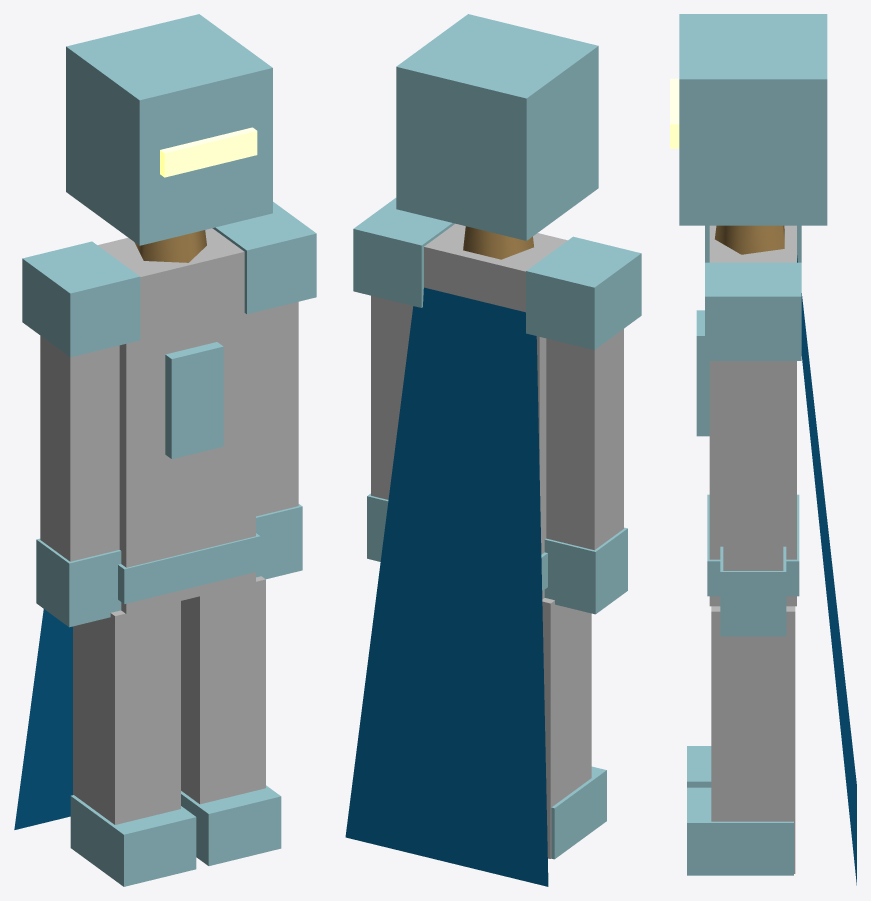
The model's file is hero_mage.glb.
3 renders of one model, left to right at view 1: azimuth 30°, elevation 25°; view 2: azimuth 150°, elevation 25°; view 3: azimuth 270°, elevation 25°, orthographic. The views are drawn at different scales.
Bounding box in the file's own units: 0.8888 × 2.71 × 0.5811.
